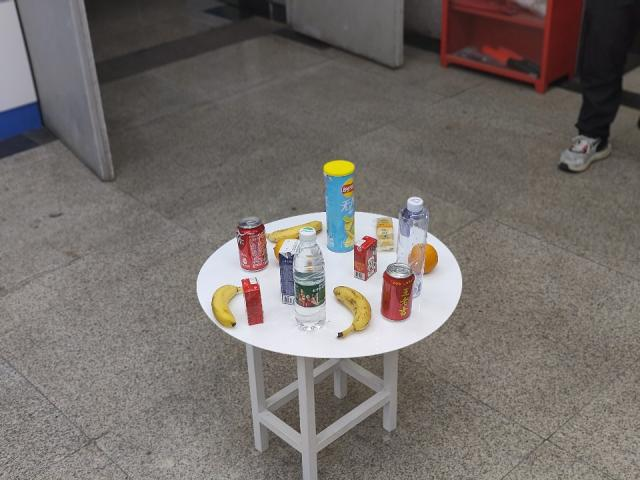Canned_drinks: (237, 219, 267, 270), (384, 265, 410, 322)
bottle: (294, 229, 328, 334), (402, 198, 426, 266)
cylinder: (322, 162, 359, 249)
drink_box: (276, 242, 298, 309), (243, 278, 263, 326), (352, 237, 375, 276)
